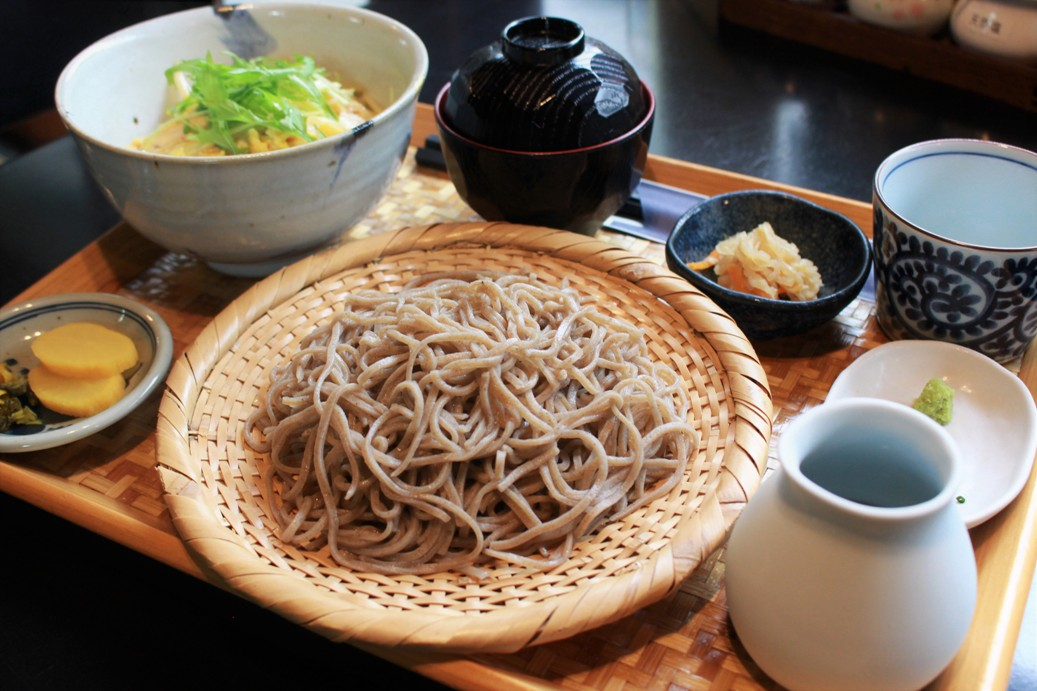Soba: (248, 276, 713, 558)
